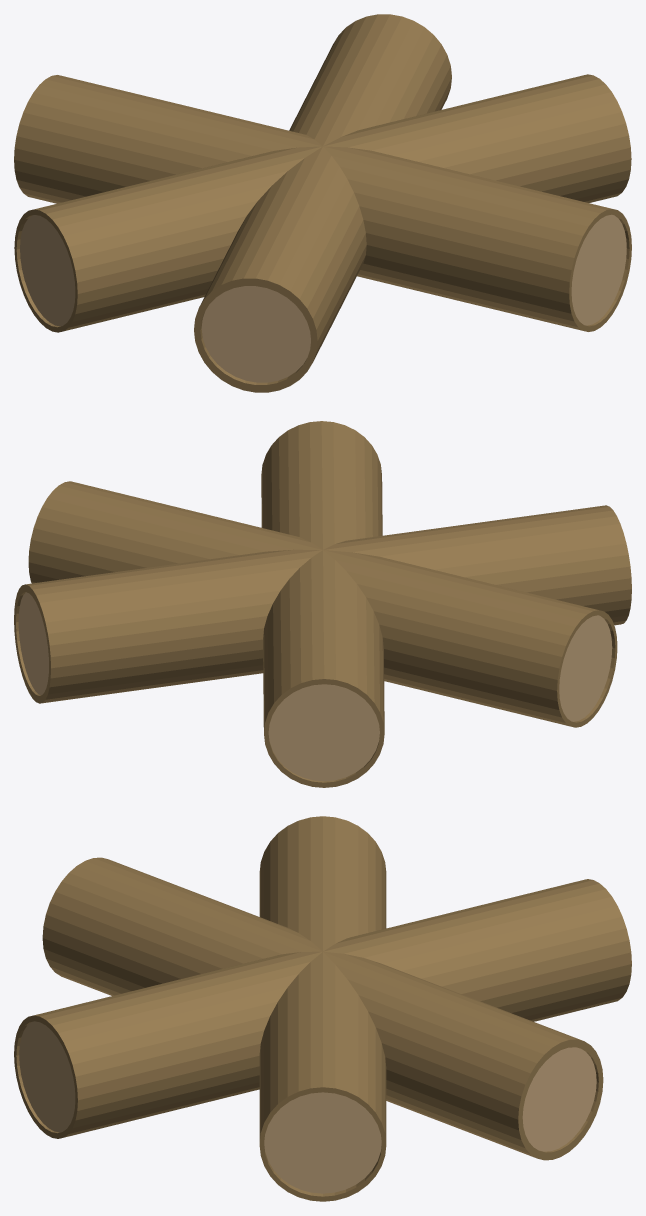
File: hoguera.fbx
3 renders of one model, top to bottom at view 1: azimuth 30°, elevation 25°; view 2: azimuth 150°, elevation 25°; view 3: azimuth 270°, elevation 25°, orthographic. The views are drawn at different scales.
Parts seen in each view (by area): view 1: Cylinder.002; view 2: Cylinder.002; view 3: Cylinder.002.
Part boxes in pixels (box(x1,y1,x2,y2)): Cylinder.002: box(14, 14, 631, 392); Cylinder.002: box(14, 421, 631, 787); Cylinder.002: box(14, 816, 631, 1201).
Size of the model in its own units: 51.75 by 10.2 by 49.86.
